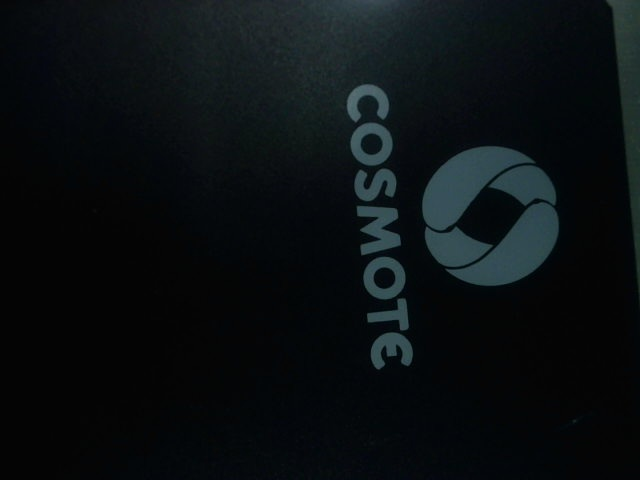AU_COSMOTE: (333, 87, 579, 378)
